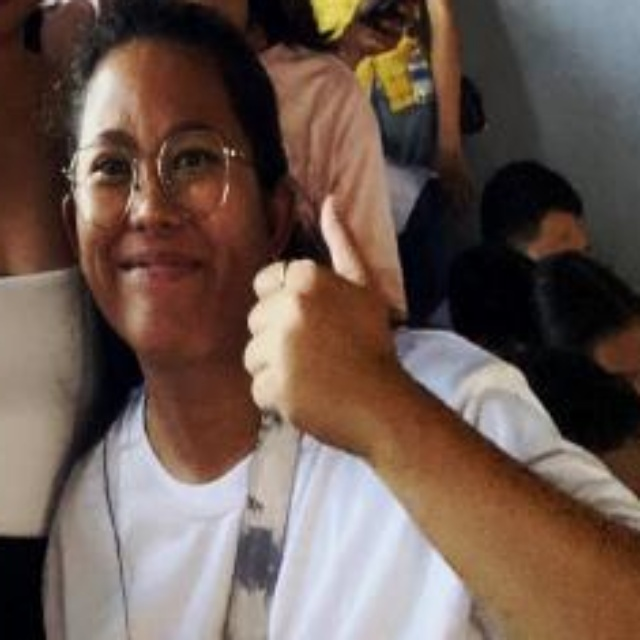thumbs_up: (234, 187, 406, 453)
